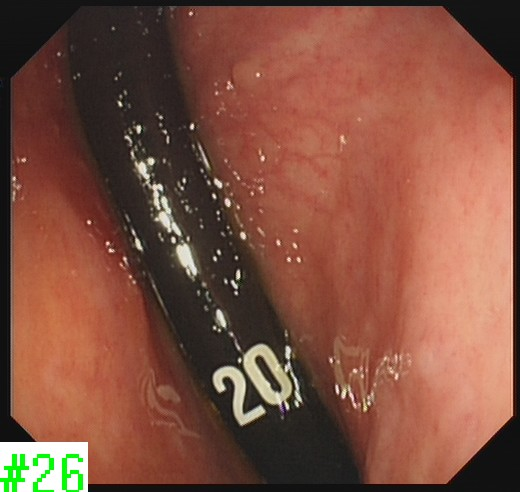others: (229, 57, 265, 91)
